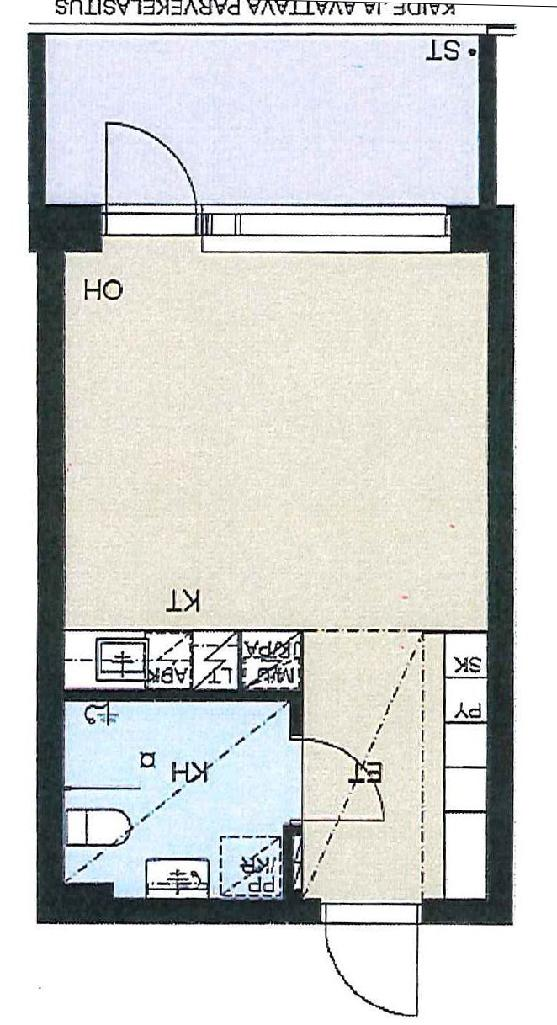door: (319, 897, 434, 1025), (102, 122, 204, 237)
window: (204, 202, 446, 246)
zone: (67, 242, 485, 627), (46, 30, 482, 204), (63, 689, 299, 893), (303, 630, 445, 900), (63, 627, 295, 689), (442, 625, 492, 888)
